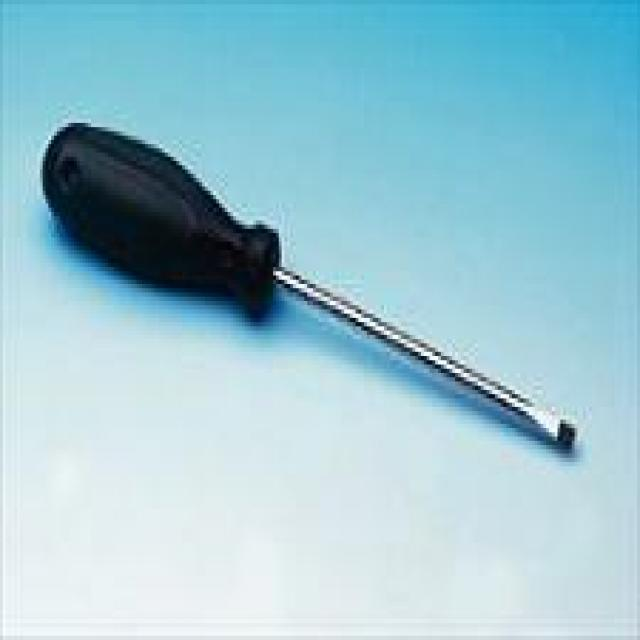screwdriver: (36, 99, 584, 466)
